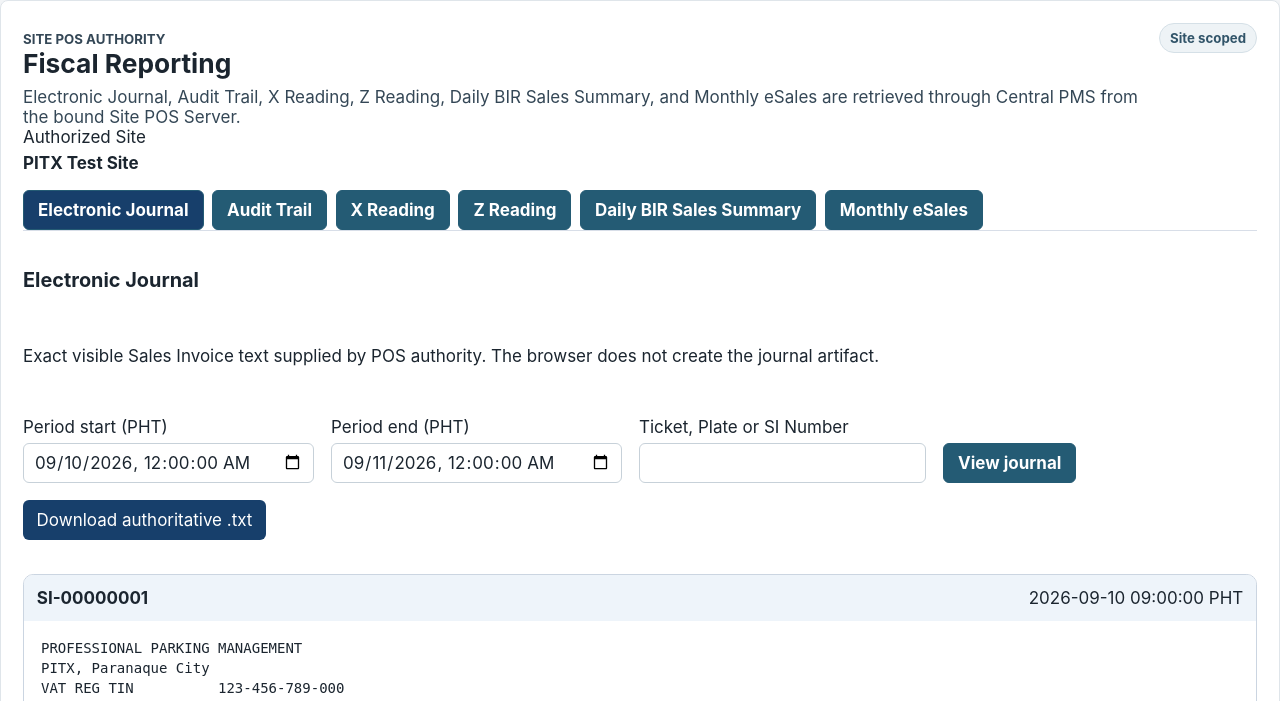
Scenario: Operator Console fiscal reporting › keeps fiscal errors scoped to the failed operation
Click the tab "X Reading": (393,210) [336,190,450,230]
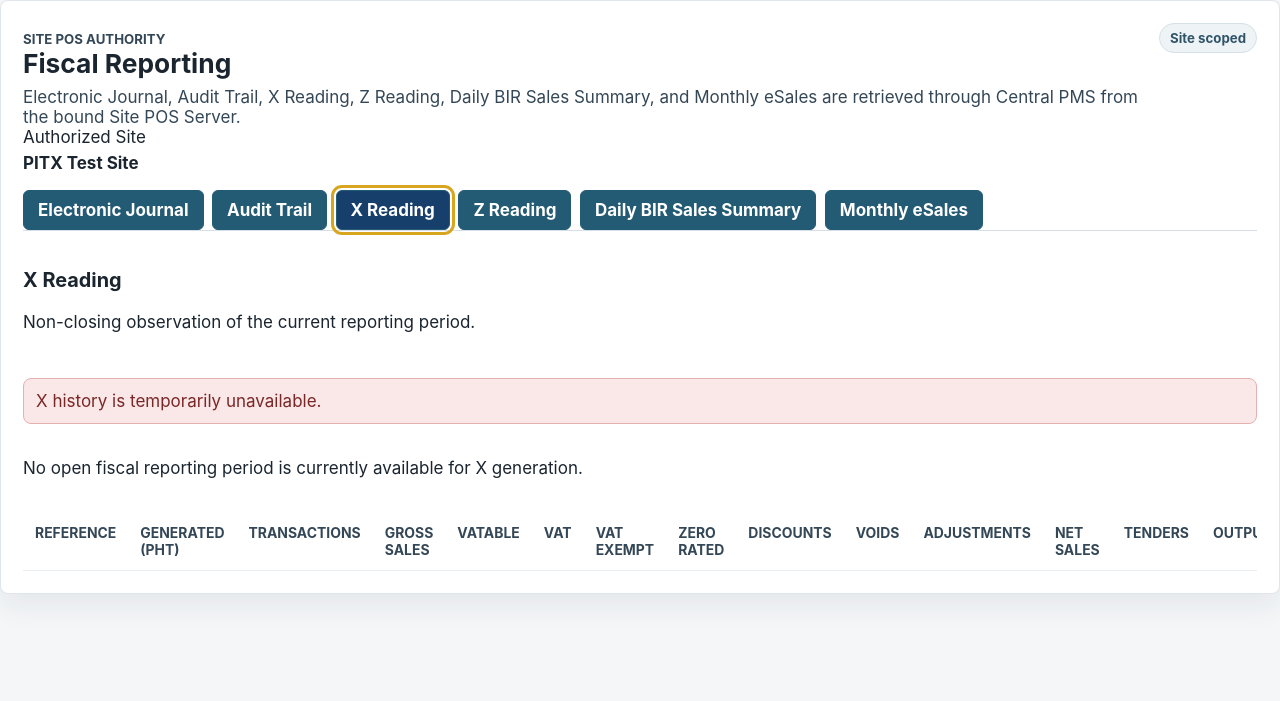
Check: the message "X history is temporarily unavailable." is shown, box [23,378,1257,424]
Click the tab "Z Reading": (515,210) [458,190,572,230]
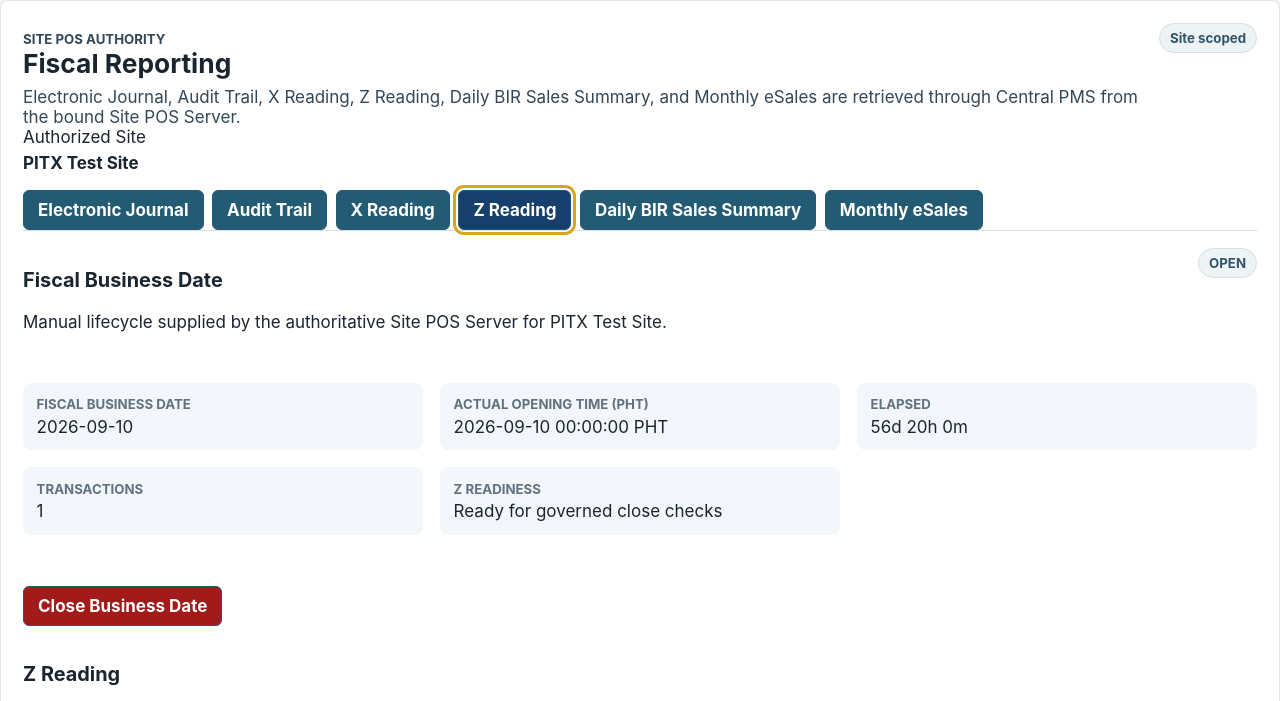
Check: the button "Close Business Date" is shown, box [23,586,222,626]
Click the tab "Electronic Journal": (113,210) [23,190,204,230]
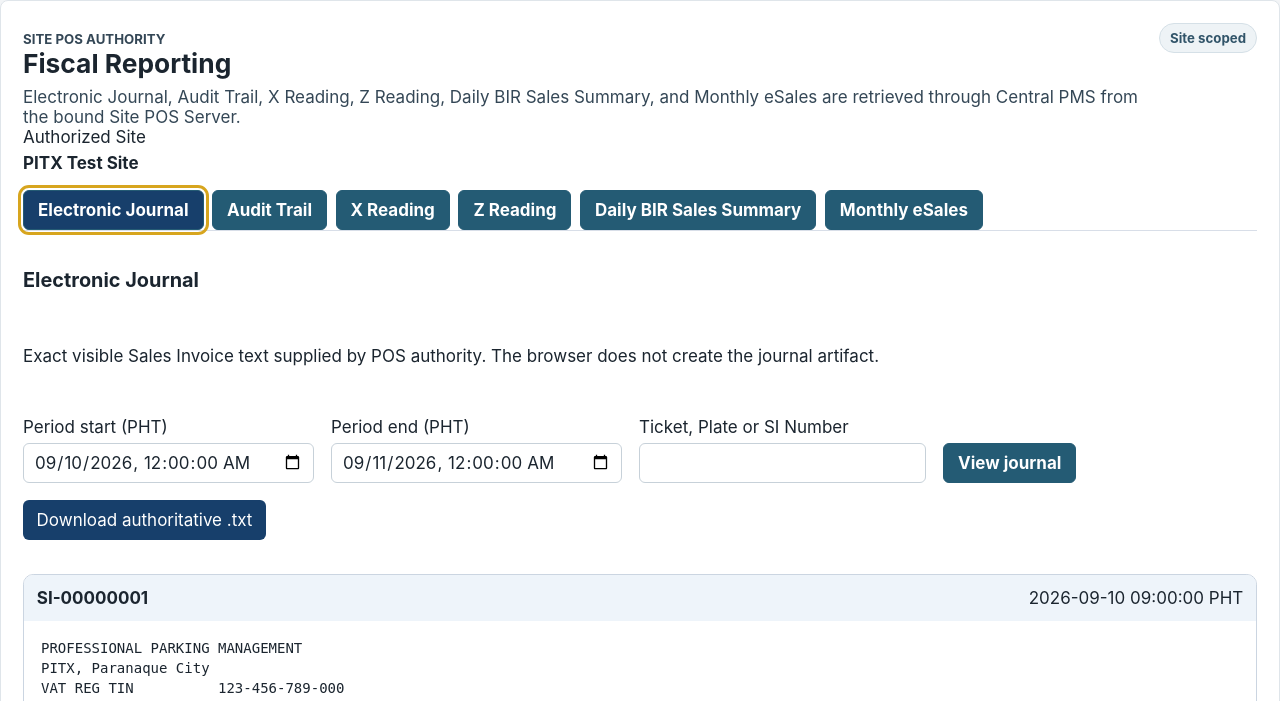
Check: the heading "Electronic Journal" is shown, box [23,268,199,292]
